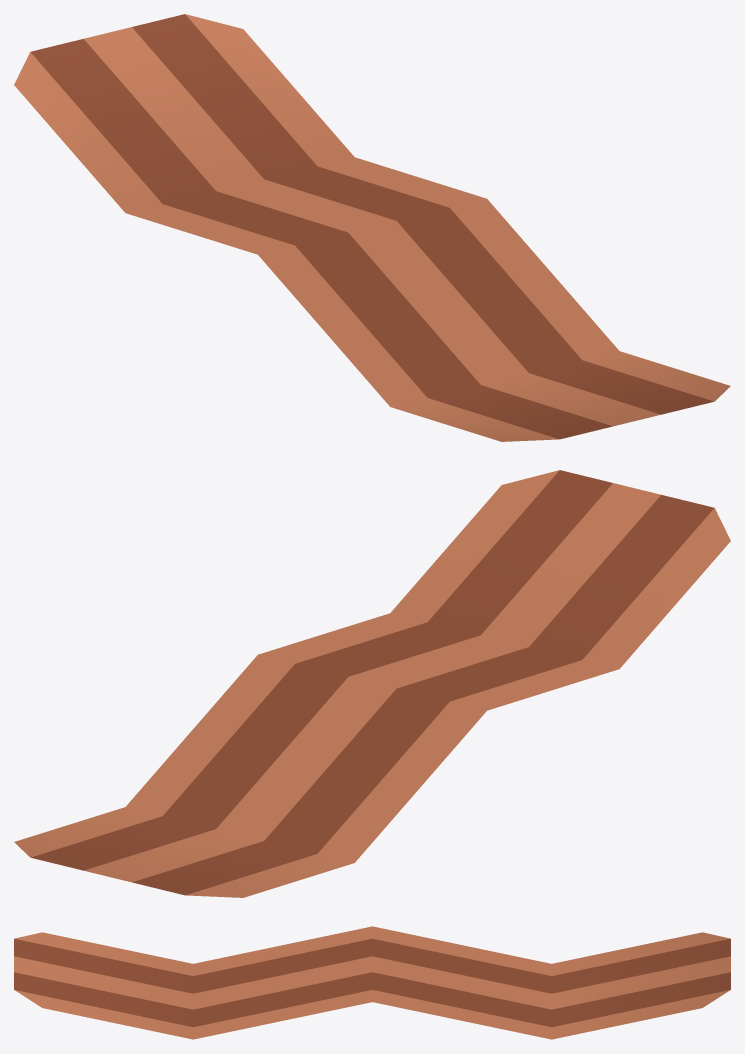
Rendered from bacon.glb.
3 views of the same model, one above another, from view 1: azimuth 30°, elevation 25°; view 2: azimuth 150°, elevation 25°; view 3: azimuth 270°, elevation 25° (orthographic). The views are drawn at different scales.
Parts seen in each view (by area): view 1: bacon; view 2: bacon; view 3: bacon.
Boxes of the visible parts, x1,y1,x2,y2 form: bacon: [14, 14, 730, 441]; bacon: [14, 470, 730, 897]; bacon: [14, 926, 730, 1039].
Bounding box in the file's own units: 0.13 × 0.03 × 0.52.
